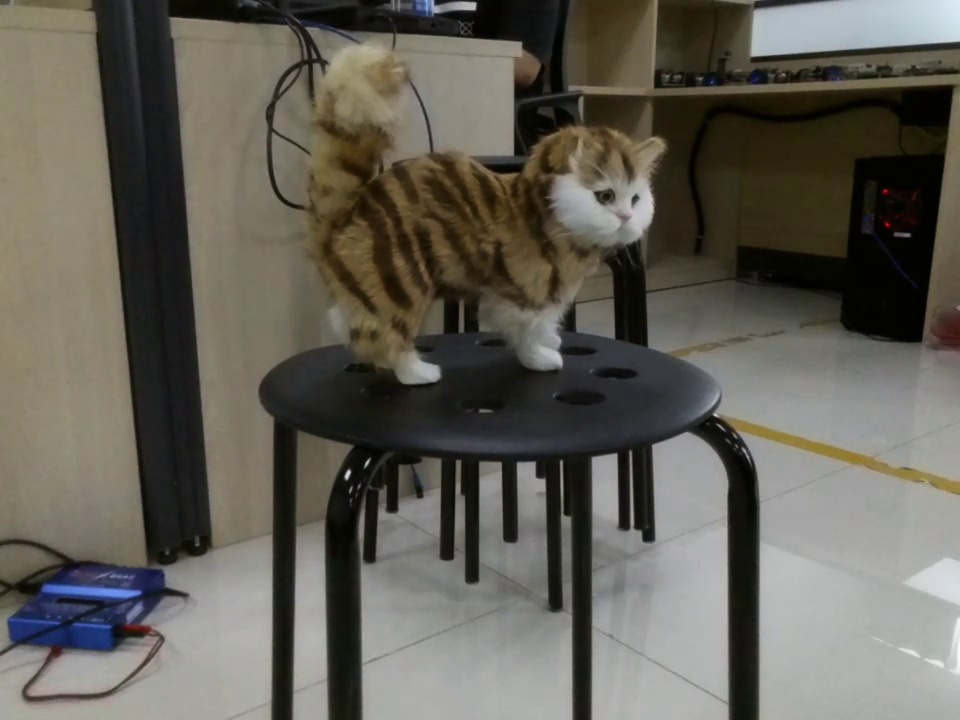cat: (302, 48, 660, 380)
